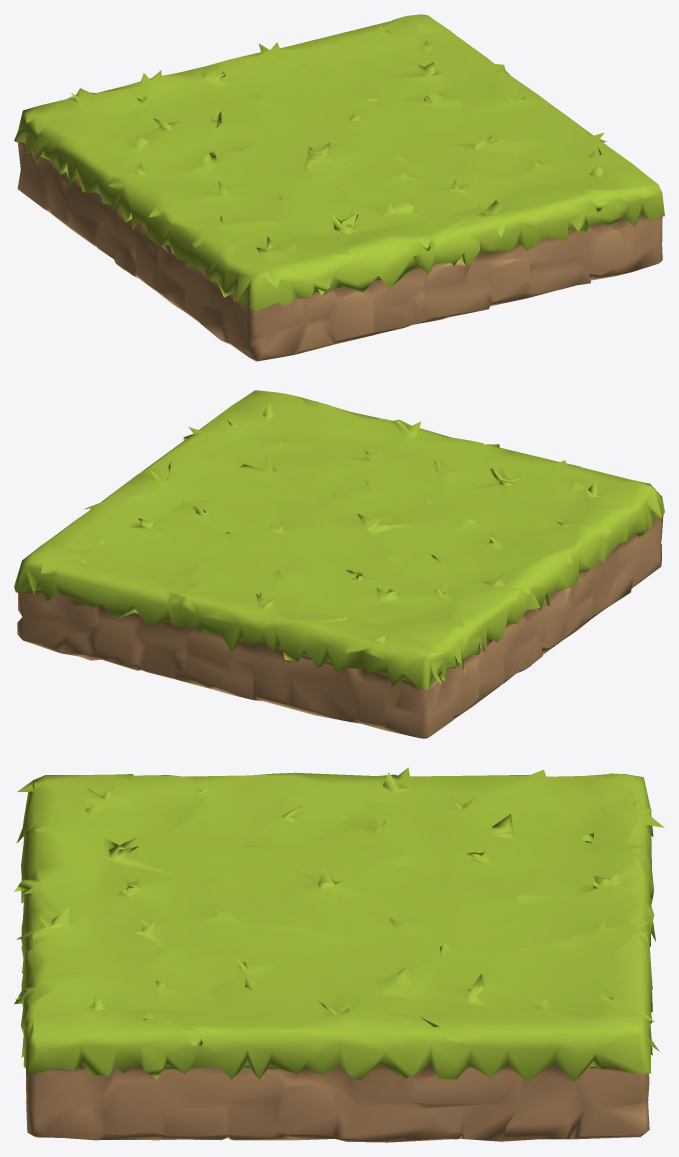
File: grass_tile.glb
The picture shows the model from 3 angles, top to bottom: view 1: azimuth 30°, elevation 25°; view 2: azimuth 150°, elevation 25°; view 3: azimuth 270°, elevation 25°; orthographic projection. The views are drawn at different scales.
Visible parts, largest first — view 1: tripo_node_91ebf72b-63a7-4bef-b4b7-1e54fe30a355; view 2: tripo_node_91ebf72b-63a7-4bef-b4b7-1e54fe30a355; view 3: tripo_node_91ebf72b-63a7-4bef-b4b7-1e54fe30a355.
Boxes of the visible parts, box(x1,y1,x2,y2) form: tripo_node_91ebf72b-63a7-4bef-b4b7-1e54fe30a355: box(14, 14, 664, 361); tripo_node_91ebf72b-63a7-4bef-b4b7-1e54fe30a355: box(14, 390, 664, 738); tripo_node_91ebf72b-63a7-4bef-b4b7-1e54fe30a355: box(14, 767, 664, 1142).
Size of the model in its own units: 0.9849 by 0.2127 by 1.
1 material, 1 textured.
